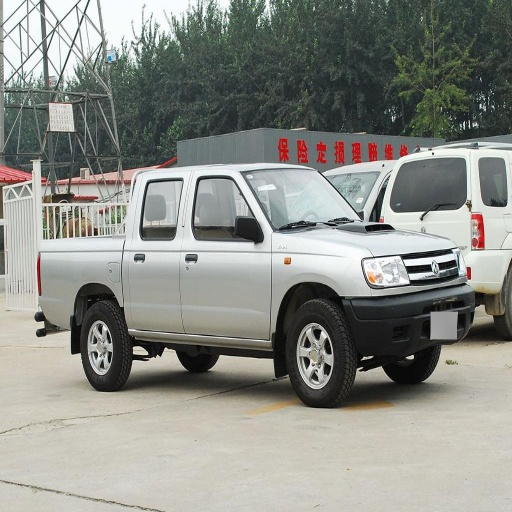front_bumper: (349, 251, 473, 357)
front_right_door: (180, 175, 268, 337)
front_right_light: (361, 257, 408, 289)
trunk: (39, 240, 124, 328)
